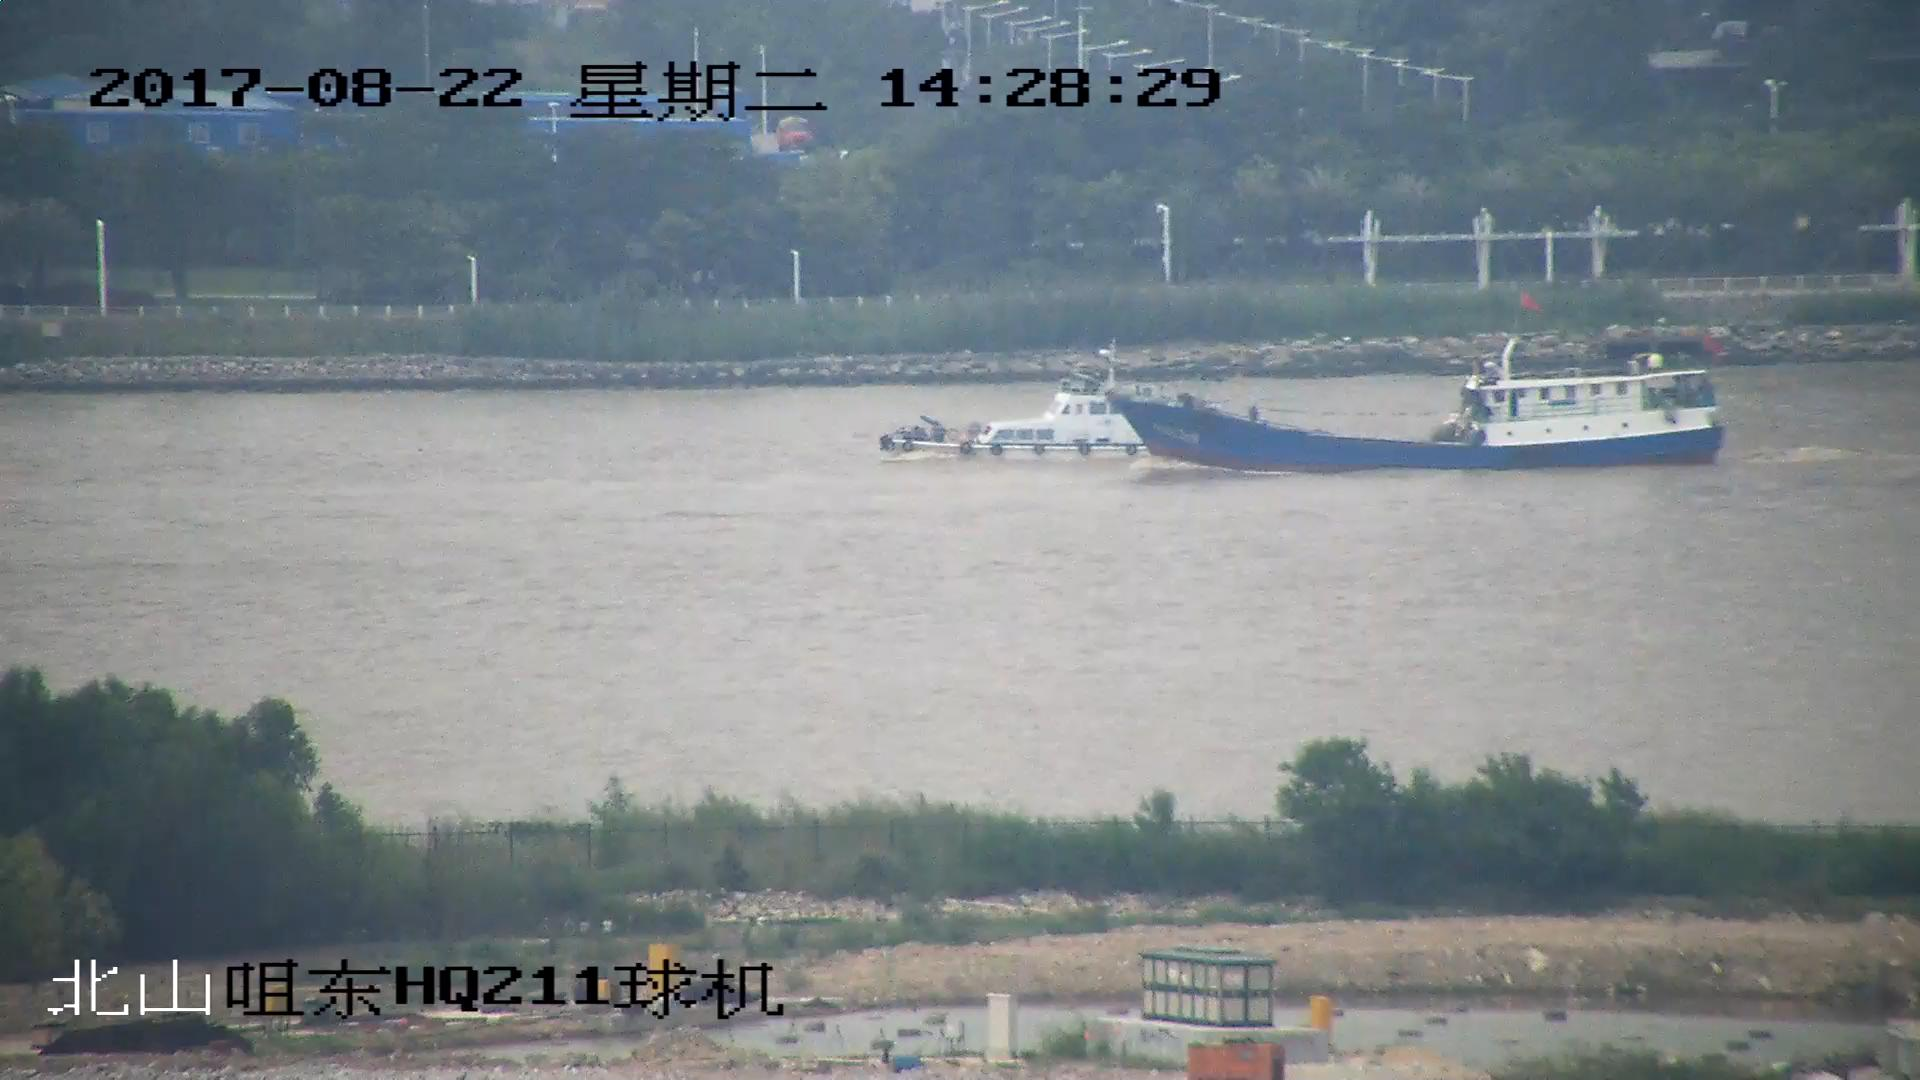fishing boat: (1104, 278, 1727, 476)
passenger ship: (878, 365, 1191, 461)
